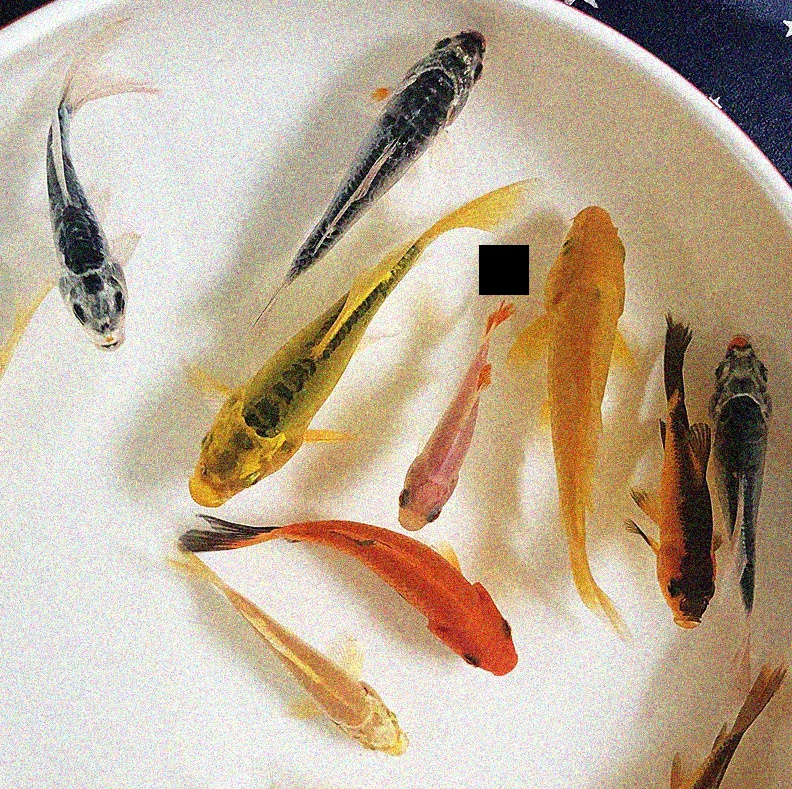fry: (516, 200, 647, 637), (175, 267, 385, 511), (270, 511, 549, 687), (185, 563, 420, 763), (273, 27, 499, 231), (26, 67, 143, 367), (705, 317, 792, 615), (382, 328, 504, 533), (649, 321, 726, 645), (664, 673, 789, 789)
